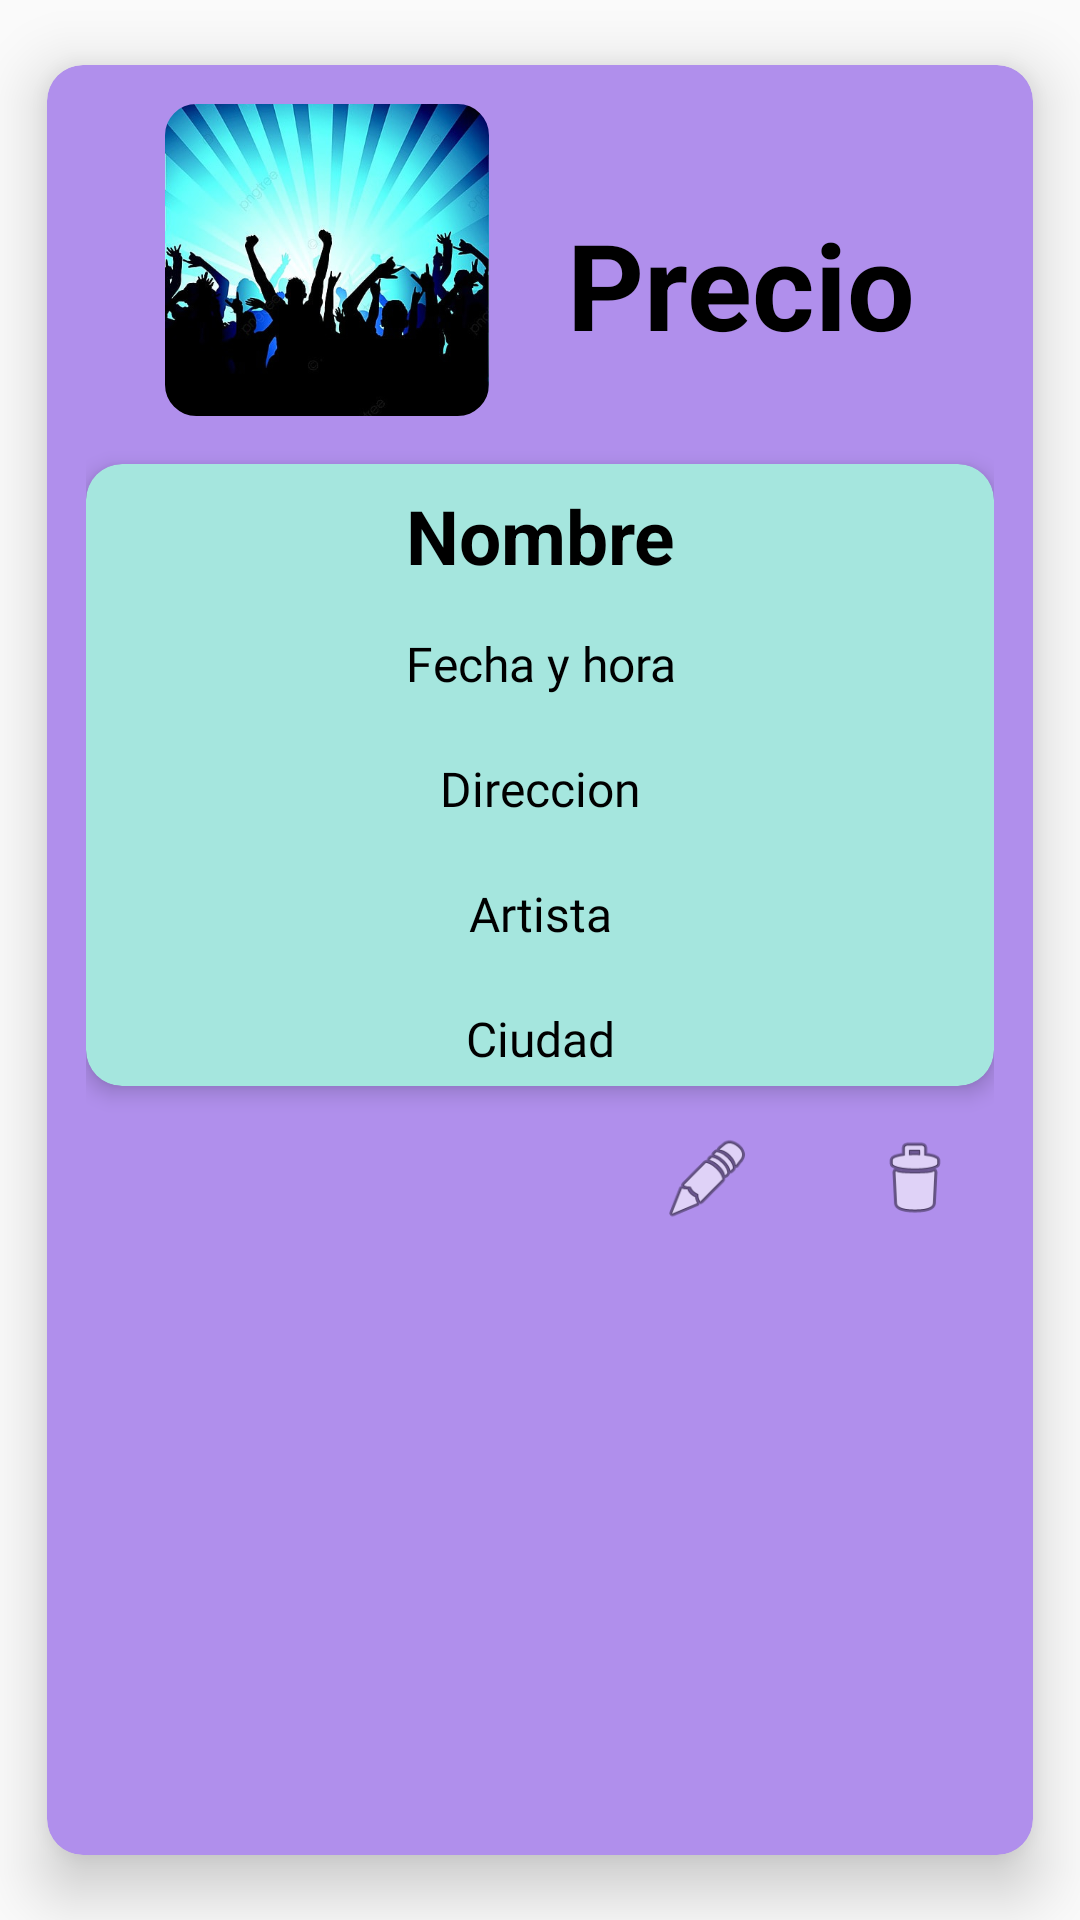

Point at icon controls on the screen. Image size 1080x1920, points as (x=x, y=y).
delete: (x=914, y=1177)
edit: (x=707, y=1178)
